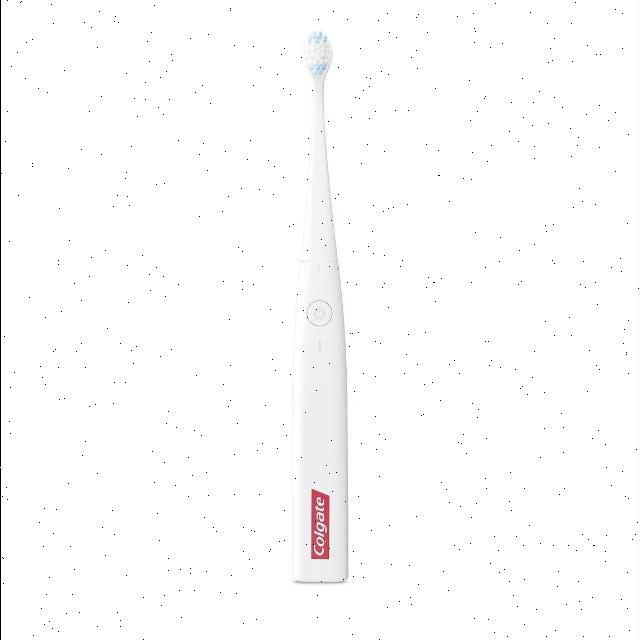toothbrush: (243, 10, 367, 630)
